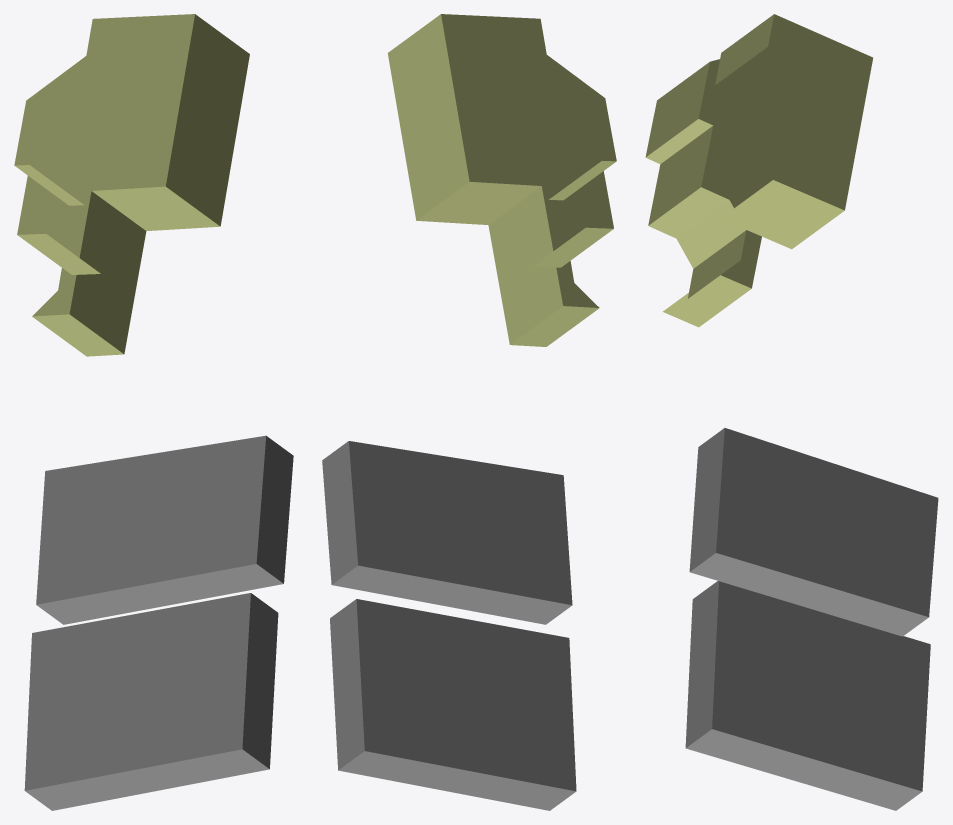
3 views of the same model, side by side, from view 1: azimuth 30°, elevation 25°; view 2: azimuth 150°, elevation 25°; view 3: azimuth 330°, elevation 25° (orthographic). The views are drawn at different scales.
Visible parts, largest first — view 1: 0_3_1_3_3_2_3_1_2; view 2: 0_3_1_3_3_2_3_1_2; view 3: 0_3_1_3_3_2_3_1_2.
Part boxes in pixels (x1,y1,x2,y2): 0_3_1_3_3_2_3_1_2: [14, 14, 293, 810]; 0_3_1_3_3_2_3_1_2: [322, 14, 616, 810]; 0_3_1_3_3_2_3_1_2: [645, 14, 938, 810].
Bounding box in the file's own units: 15.79 × 46.38 × 6.2.
